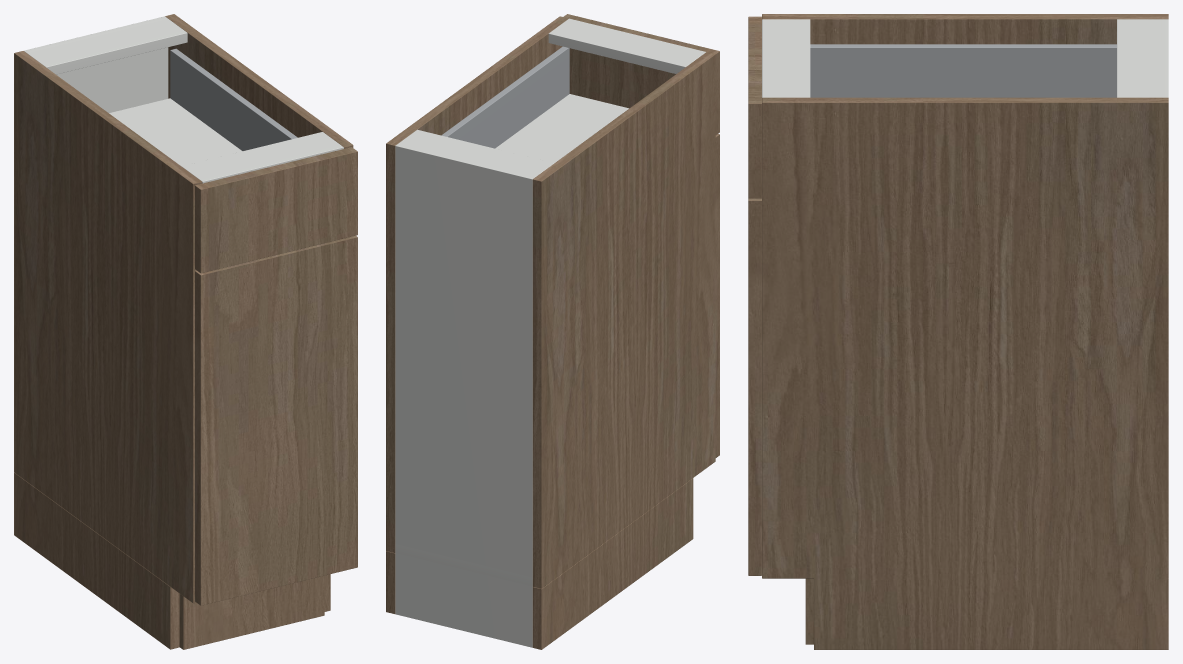
Rendered from bvc-1185.glb.
The picture shows the model from 3 angles, left to right: view 1: azimuth 30°, elevation 25°; view 2: azimuth 150°, elevation 25°; view 3: azimuth 270°, elevation 25°; orthographic projection. The views are drawn at different scales.
Visible parts, largest first — view 1: Cabinet side, Door, Drawer front, Recessed side plinth, Recessed toe board, Drawer side.001, Cabinet back, Cabinet side.001, Drawer floor, Top support rail, Top support rail.001; view 2: Cabinet side, Cabinet back, Recessed side plinth, Cabinet side.001, Drawer side.001, Drawer front, Drawer floor, Top support rail.001, Top support rail, Door, Cabinet bottom, Recessed side plinth.001; view 3: Cabinet side.001, Recessed side plinth.001, Drawer side, Cabinet side, Door, Top support rail.001, Top support rail, Drawer front, Cabinet back, Recessed toe board.
Boxes of the visible parts, x1,y1,x2,y2 form: Cabinet side: [14, 51, 202, 603]; Door: [195, 235, 357, 605]; Drawer front: [195, 147, 357, 273]; Recessed side plinth: [14, 472, 179, 649]; Recessed toe board: [179, 575, 324, 649]; Drawer side.001: [170, 48, 297, 150]; Cabinet back: [24, 16, 168, 112]; Cabinet side.001: [165, 14, 353, 148]; Drawer floor: [109, 98, 242, 166]; Top support rail: [25, 19, 187, 74]; Top support rail.001: [182, 132, 343, 183]; Cabinet side: [532, 52, 715, 588]; Cabinet back: [395, 143, 535, 647]; Recessed side plinth: [532, 478, 693, 649]; Cabinet side.001: [386, 16, 568, 552]; Drawer side.001: [441, 46, 569, 148]; Drawer front: [563, 14, 719, 134]; Drawer floor: [495, 94, 628, 162]; Top support rail.001: [548, 18, 705, 73]; Top support rail: [399, 129, 554, 177]; Door: [715, 134, 719, 457]; Cabinet bottom: [395, 544, 532, 586]; Recessed side plinth.001: [386, 551, 395, 613]; Cabinet side.001: [762, 97, 1168, 578]; Recessed side plinth.001: [814, 578, 1168, 649]; Drawer side: [810, 44, 1116, 97]; Cabinet side: [762, 14, 1168, 44]; Door: [748, 198, 761, 575]; Top support rail.001: [762, 19, 810, 97]; Top support rail: [1117, 19, 1163, 97]; Drawer front: [748, 16, 761, 198]; Cabinet back: [1160, 19, 1168, 97]; Recessed toe board: [805, 578, 813, 644].
Size of the model in its own units: 0.3048 by 0.8763 by 0.6096.
3 materials, 1 textured.
